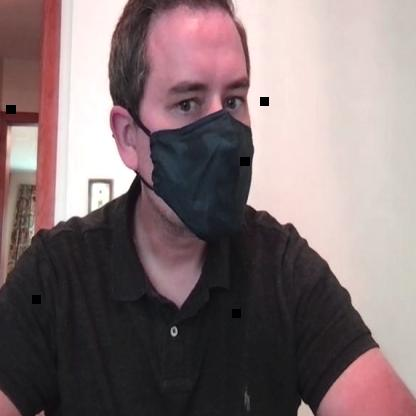mask: (108, 0, 255, 245)
